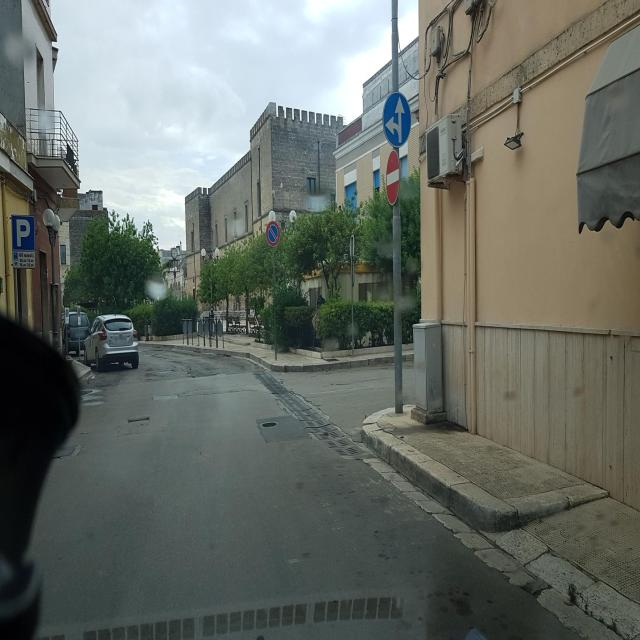forb_stopping: (266, 222, 280, 247)
